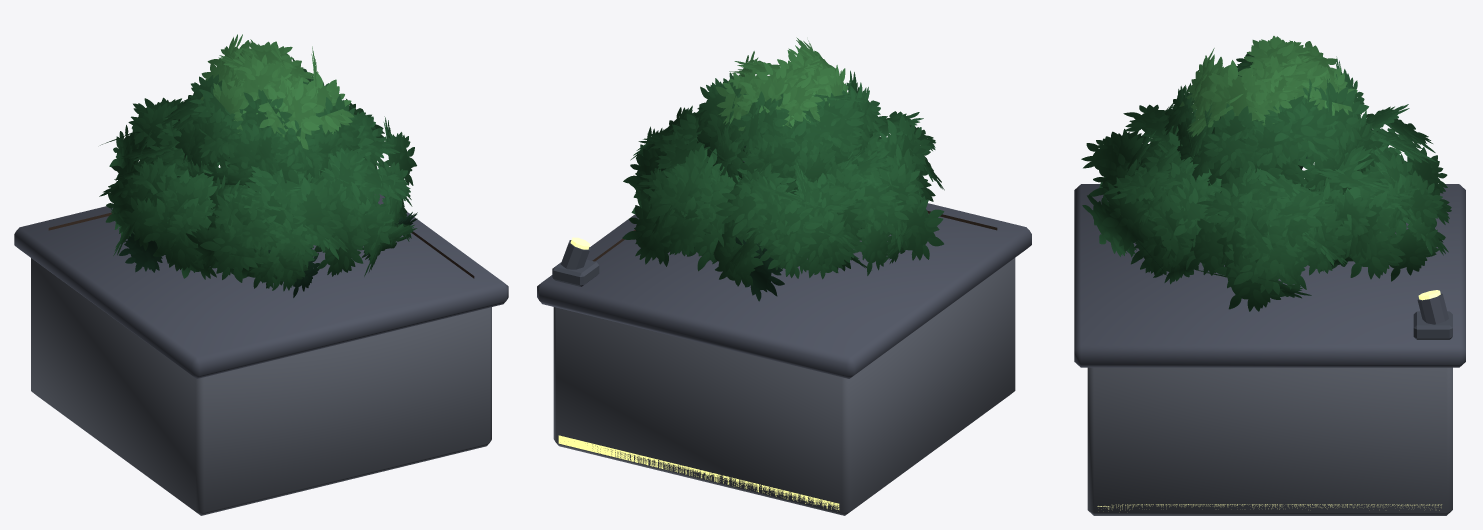
The model's file is planter_square.glb.
The picture shows the model from 3 angles, left to right: view 1: azimuth 30°, elevation 25°; view 2: azimuth 150°, elevation 25°; view 3: azimuth 270°, elevation 25°; orthographic projection. The views are drawn at different scales.
Visible parts, largest first — view 1: body; view 2: body, light; view 3: body, light.
Part boxes in pixels (<box>): body: <box>14,34,508,515</box>; body: <box>537,37,1031,515</box>; light: <box>552,237,839,509</box>; body: <box>1074,36,1465,515</box>; light: <box>1097,290,1452,510</box>.
Bounding box in the file's own units: 1.25 × 1.42 × 1.25.
Materials: 4 (1 with a texture image).
